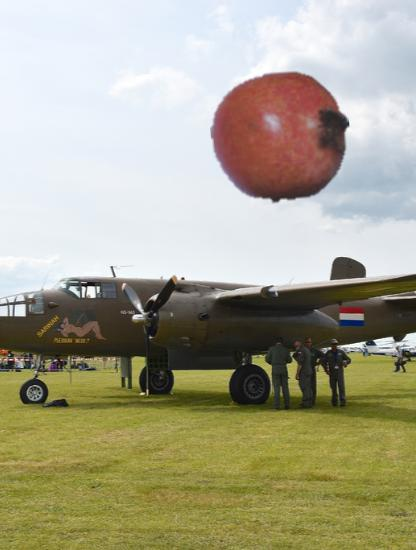Pomegranate: (211, 68, 350, 207)
